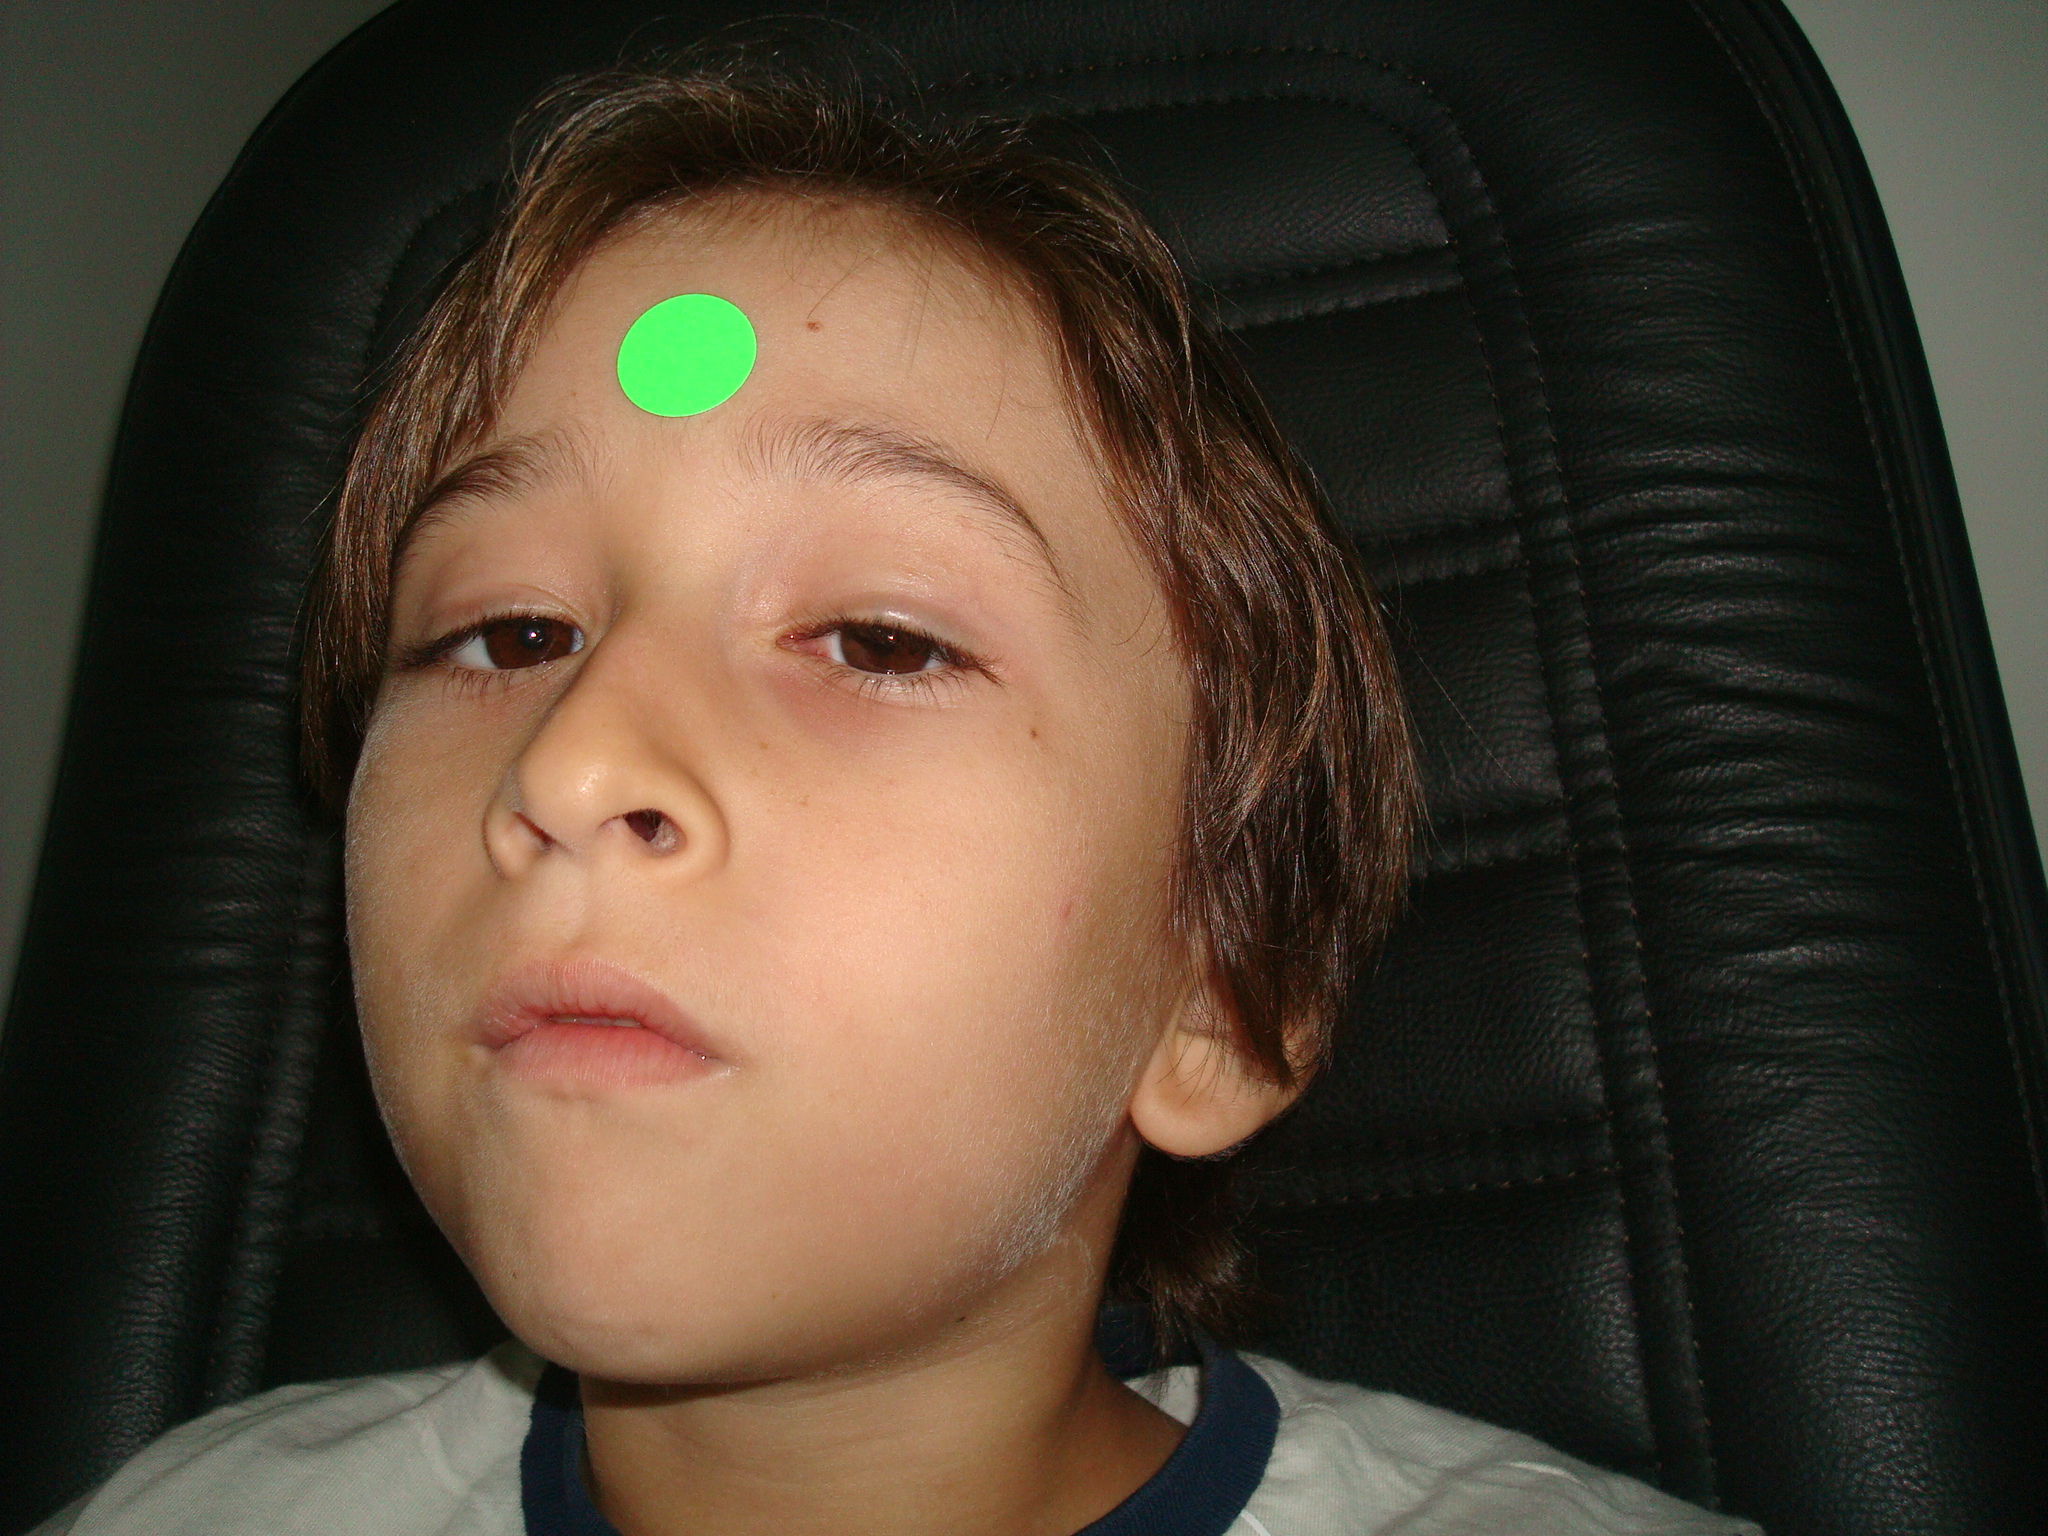flash: (885, 632, 895, 642), (529, 632, 537, 639)
limbo: (487, 603, 581, 671), (843, 610, 930, 674)
